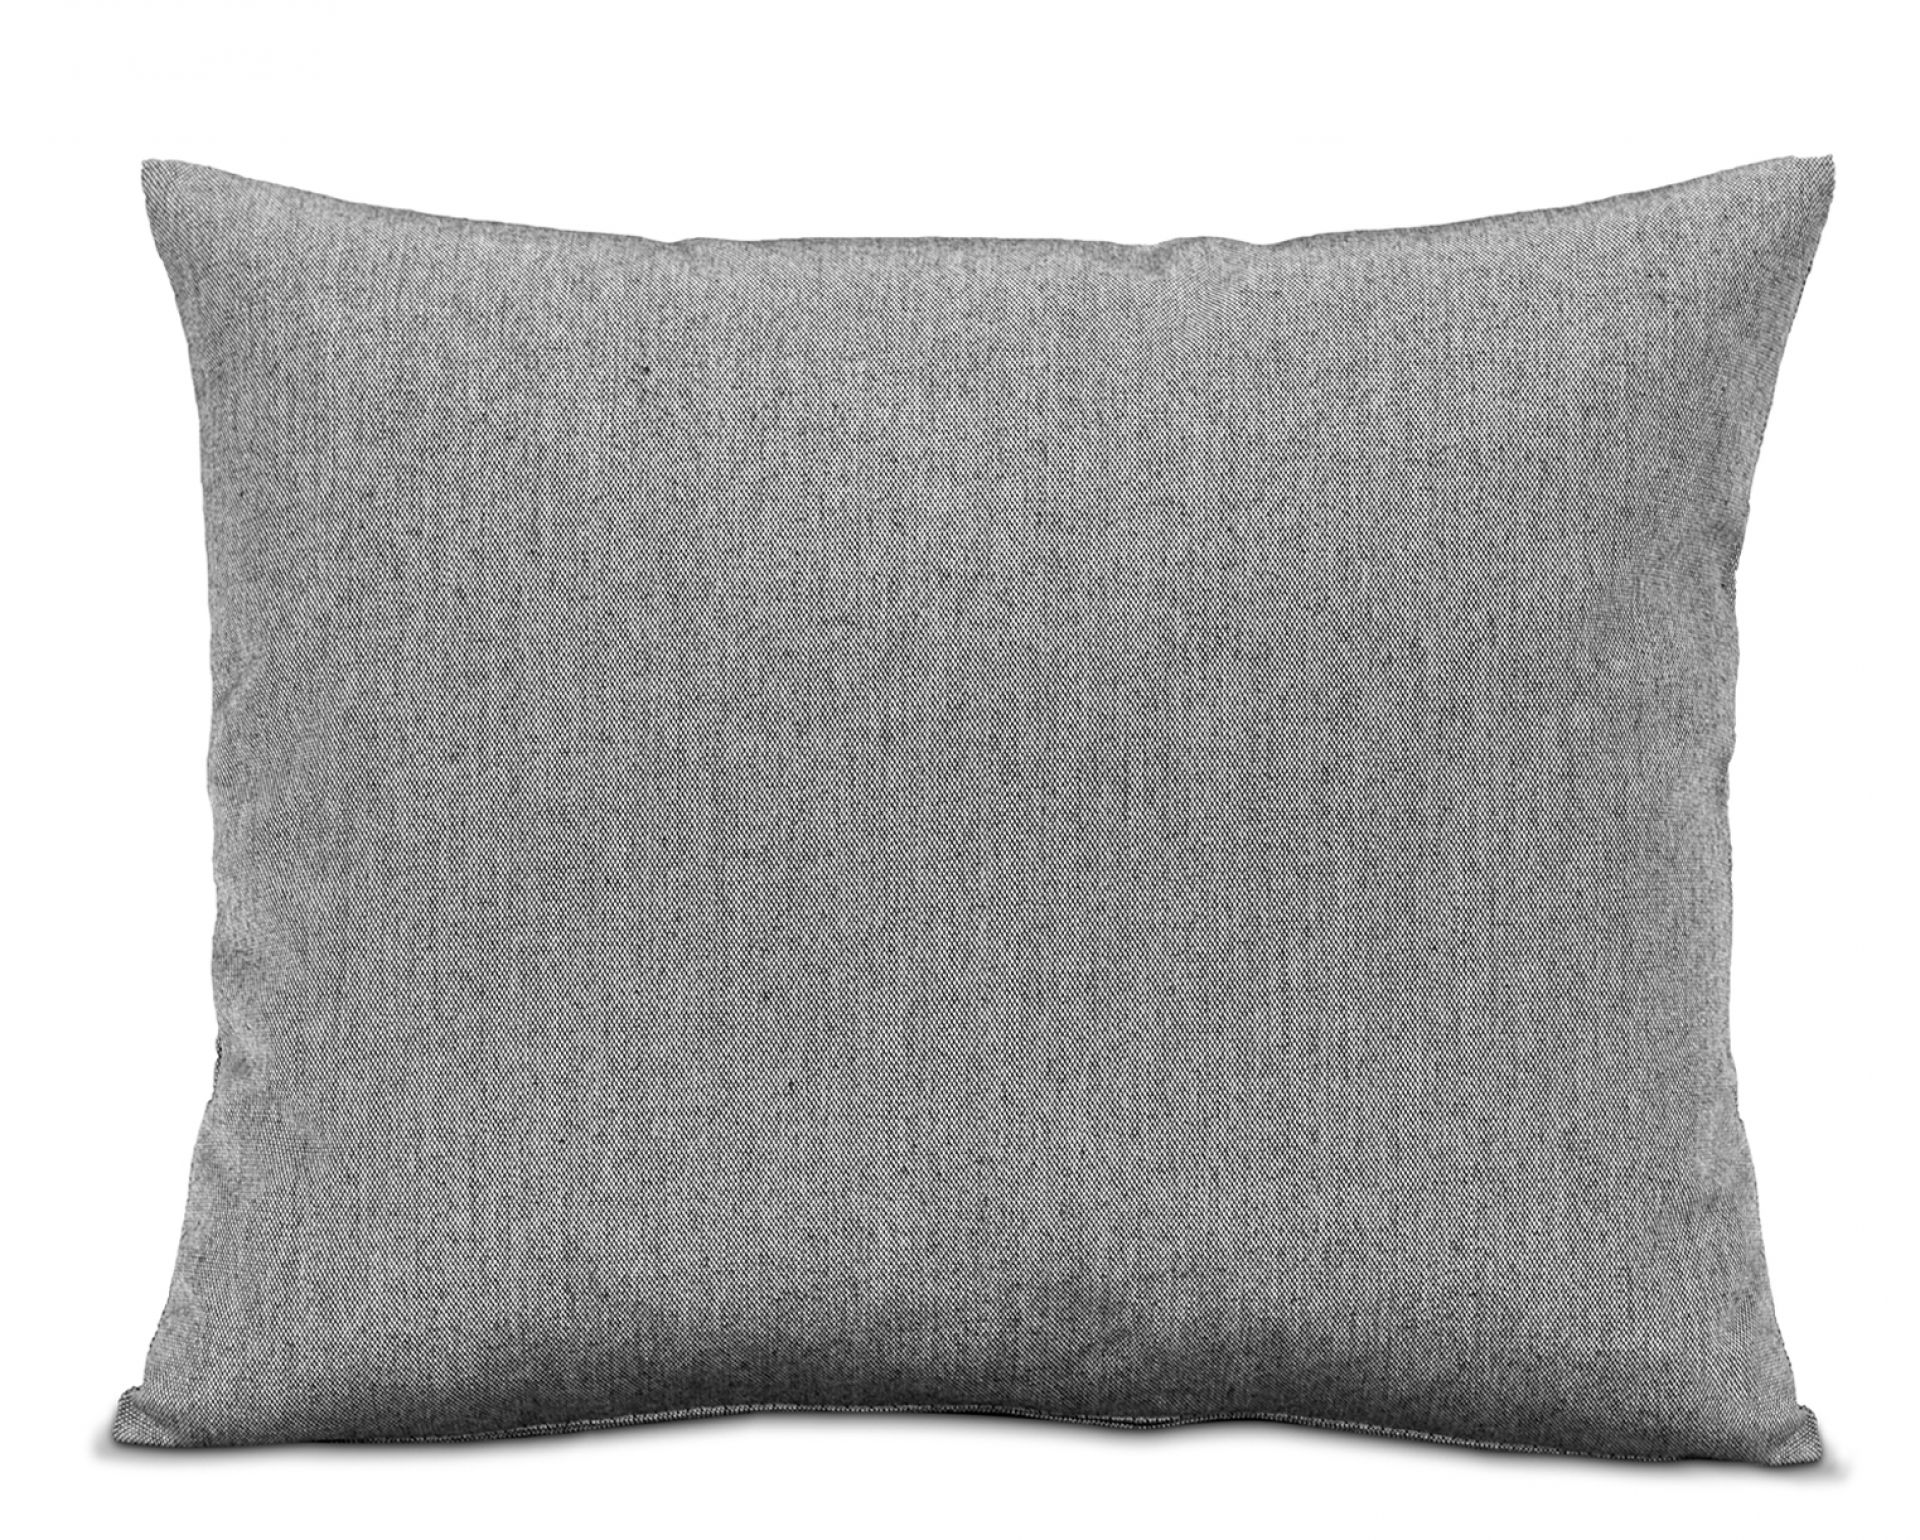bantal: (33, 2, 1860, 1540)
